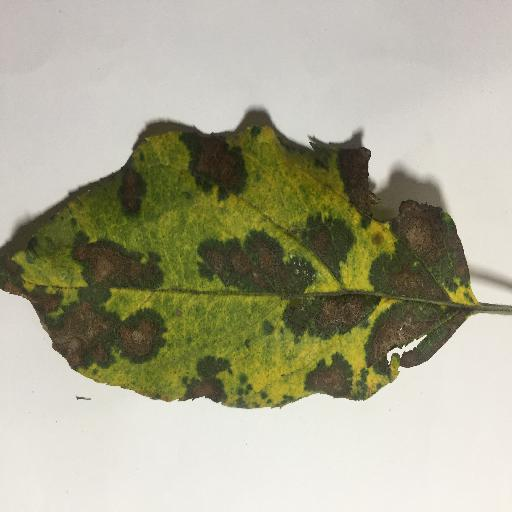Brown_Spot: (10, 291, 168, 378), (360, 212, 474, 307), (191, 231, 318, 290), (366, 305, 462, 373), (85, 238, 177, 290), (176, 128, 250, 192), (303, 217, 358, 288), (337, 152, 381, 223), (288, 299, 368, 336), (303, 349, 352, 395), (172, 363, 226, 401), (114, 172, 154, 222)
